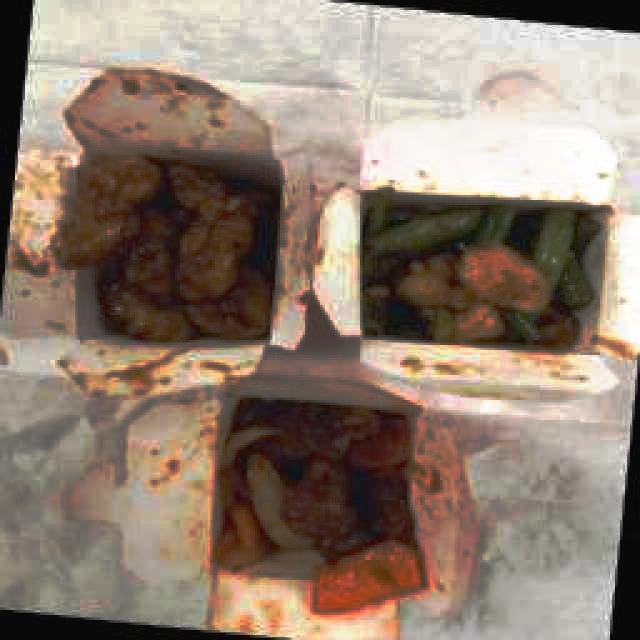Beijing Beef: (217, 389, 430, 612)
Kung Pao Chicken: (70, 150, 281, 344)
String Bean Chicken Breast: (361, 192, 597, 344)
